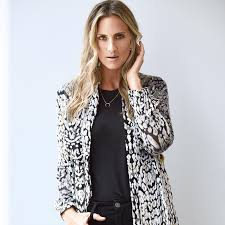middle_eastern_Female: (84, 13, 136, 71)
